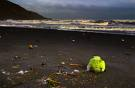tennis ball: (87, 56, 105, 73)
